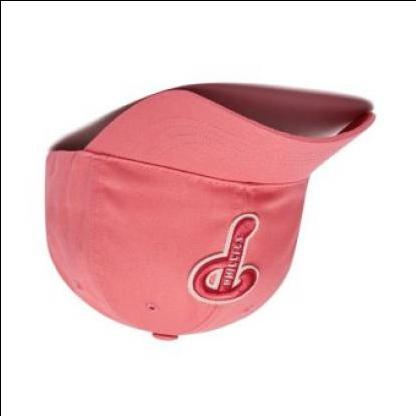cap: (26, 72, 389, 348)
